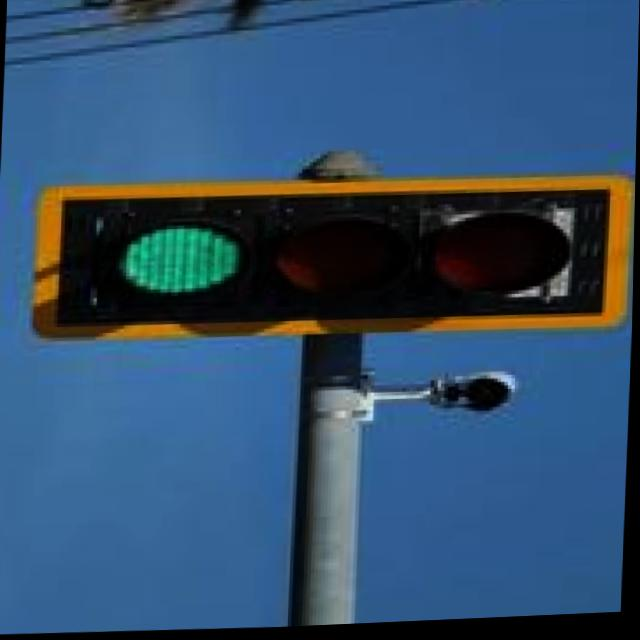green_light: (114, 179, 266, 363)
